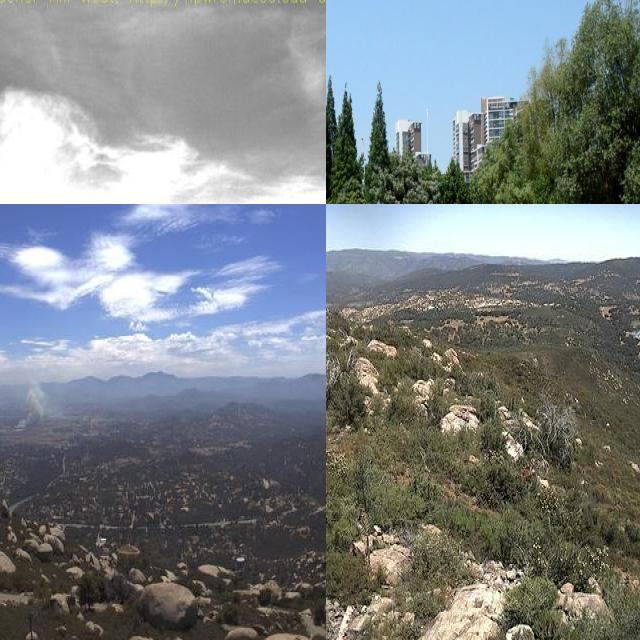smoke: (8, 369, 68, 439)
